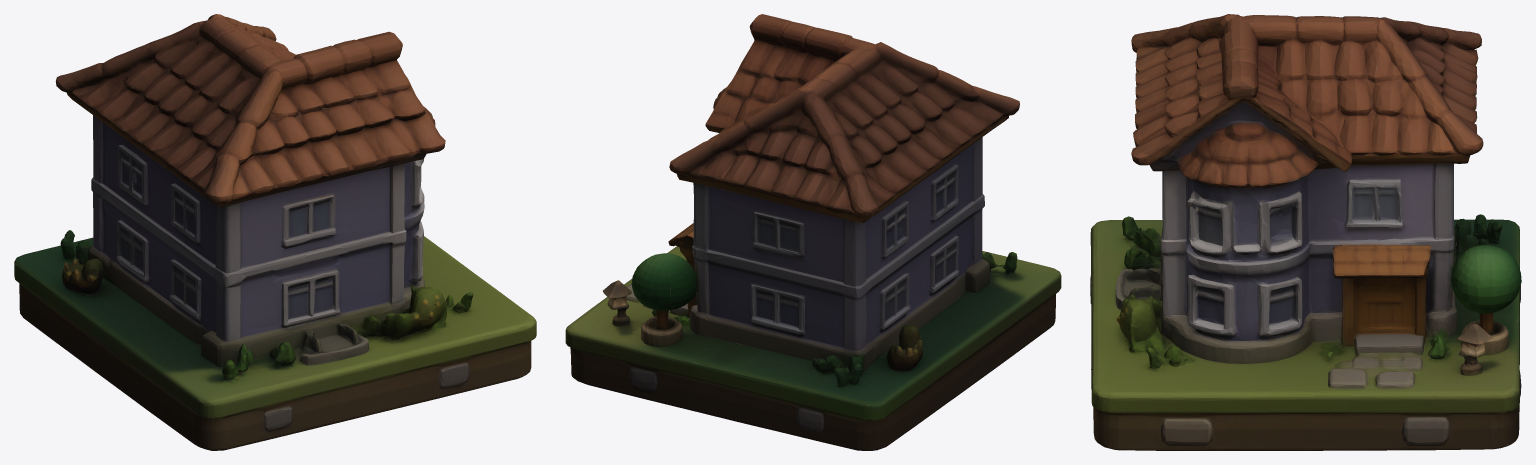
The model's file is casa_relleno_5.glb.
3 renders of one model, left to right at view 1: azimuth 30°, elevation 25°; view 2: azimuth 150°, elevation 25°; view 3: azimuth 270°, elevation 25°, orthographic. The views are drawn at different scales.
Parts seen in each view (by area): view 1: world; view 2: world; view 3: world.
Boxes of the visible parts, left/top/right/bottom form: world: left=14, top=14, right=536, bottom=450; world: left=565, top=14, right=1061, bottom=450; world: left=1090, top=14, right=1521, bottom=450.
Bounding box in the file's own units: 0.6551 × 0.5714 × 0.6679.
Materials: 1 (1 with a texture image).
